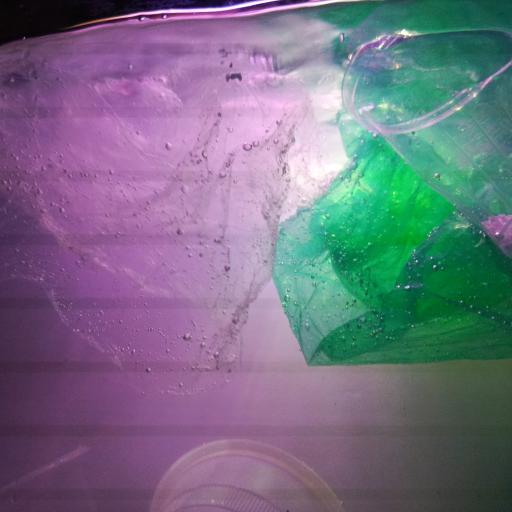plastic_bag: (0, 42, 300, 401), (278, 37, 512, 370)
plastic_cup: (337, 25, 512, 258), (148, 435, 348, 512), (0, 441, 108, 512)
